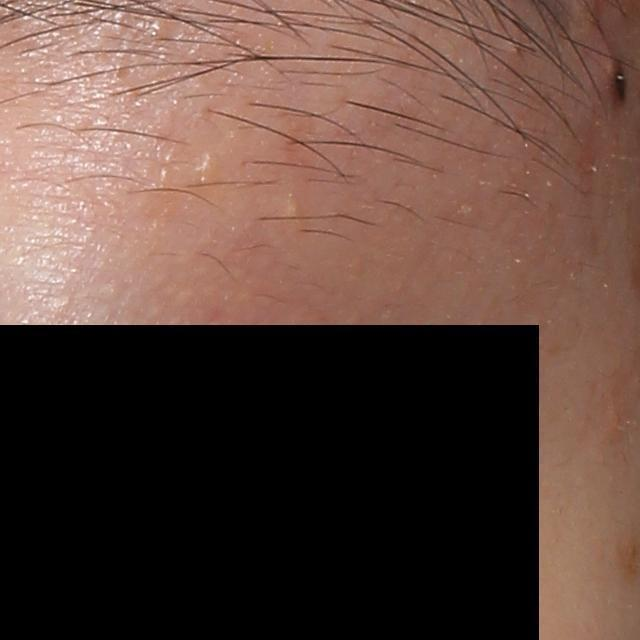comedo: (280, 197, 302, 221)
nevus: (607, 56, 631, 107)
